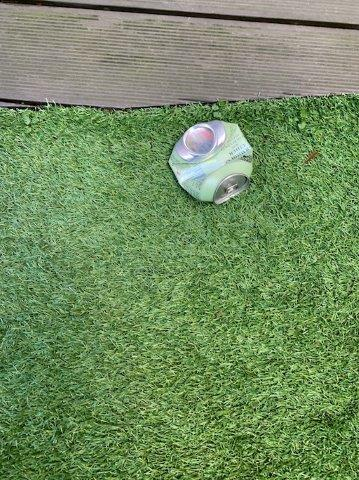kaleng: (168, 120, 254, 204)
